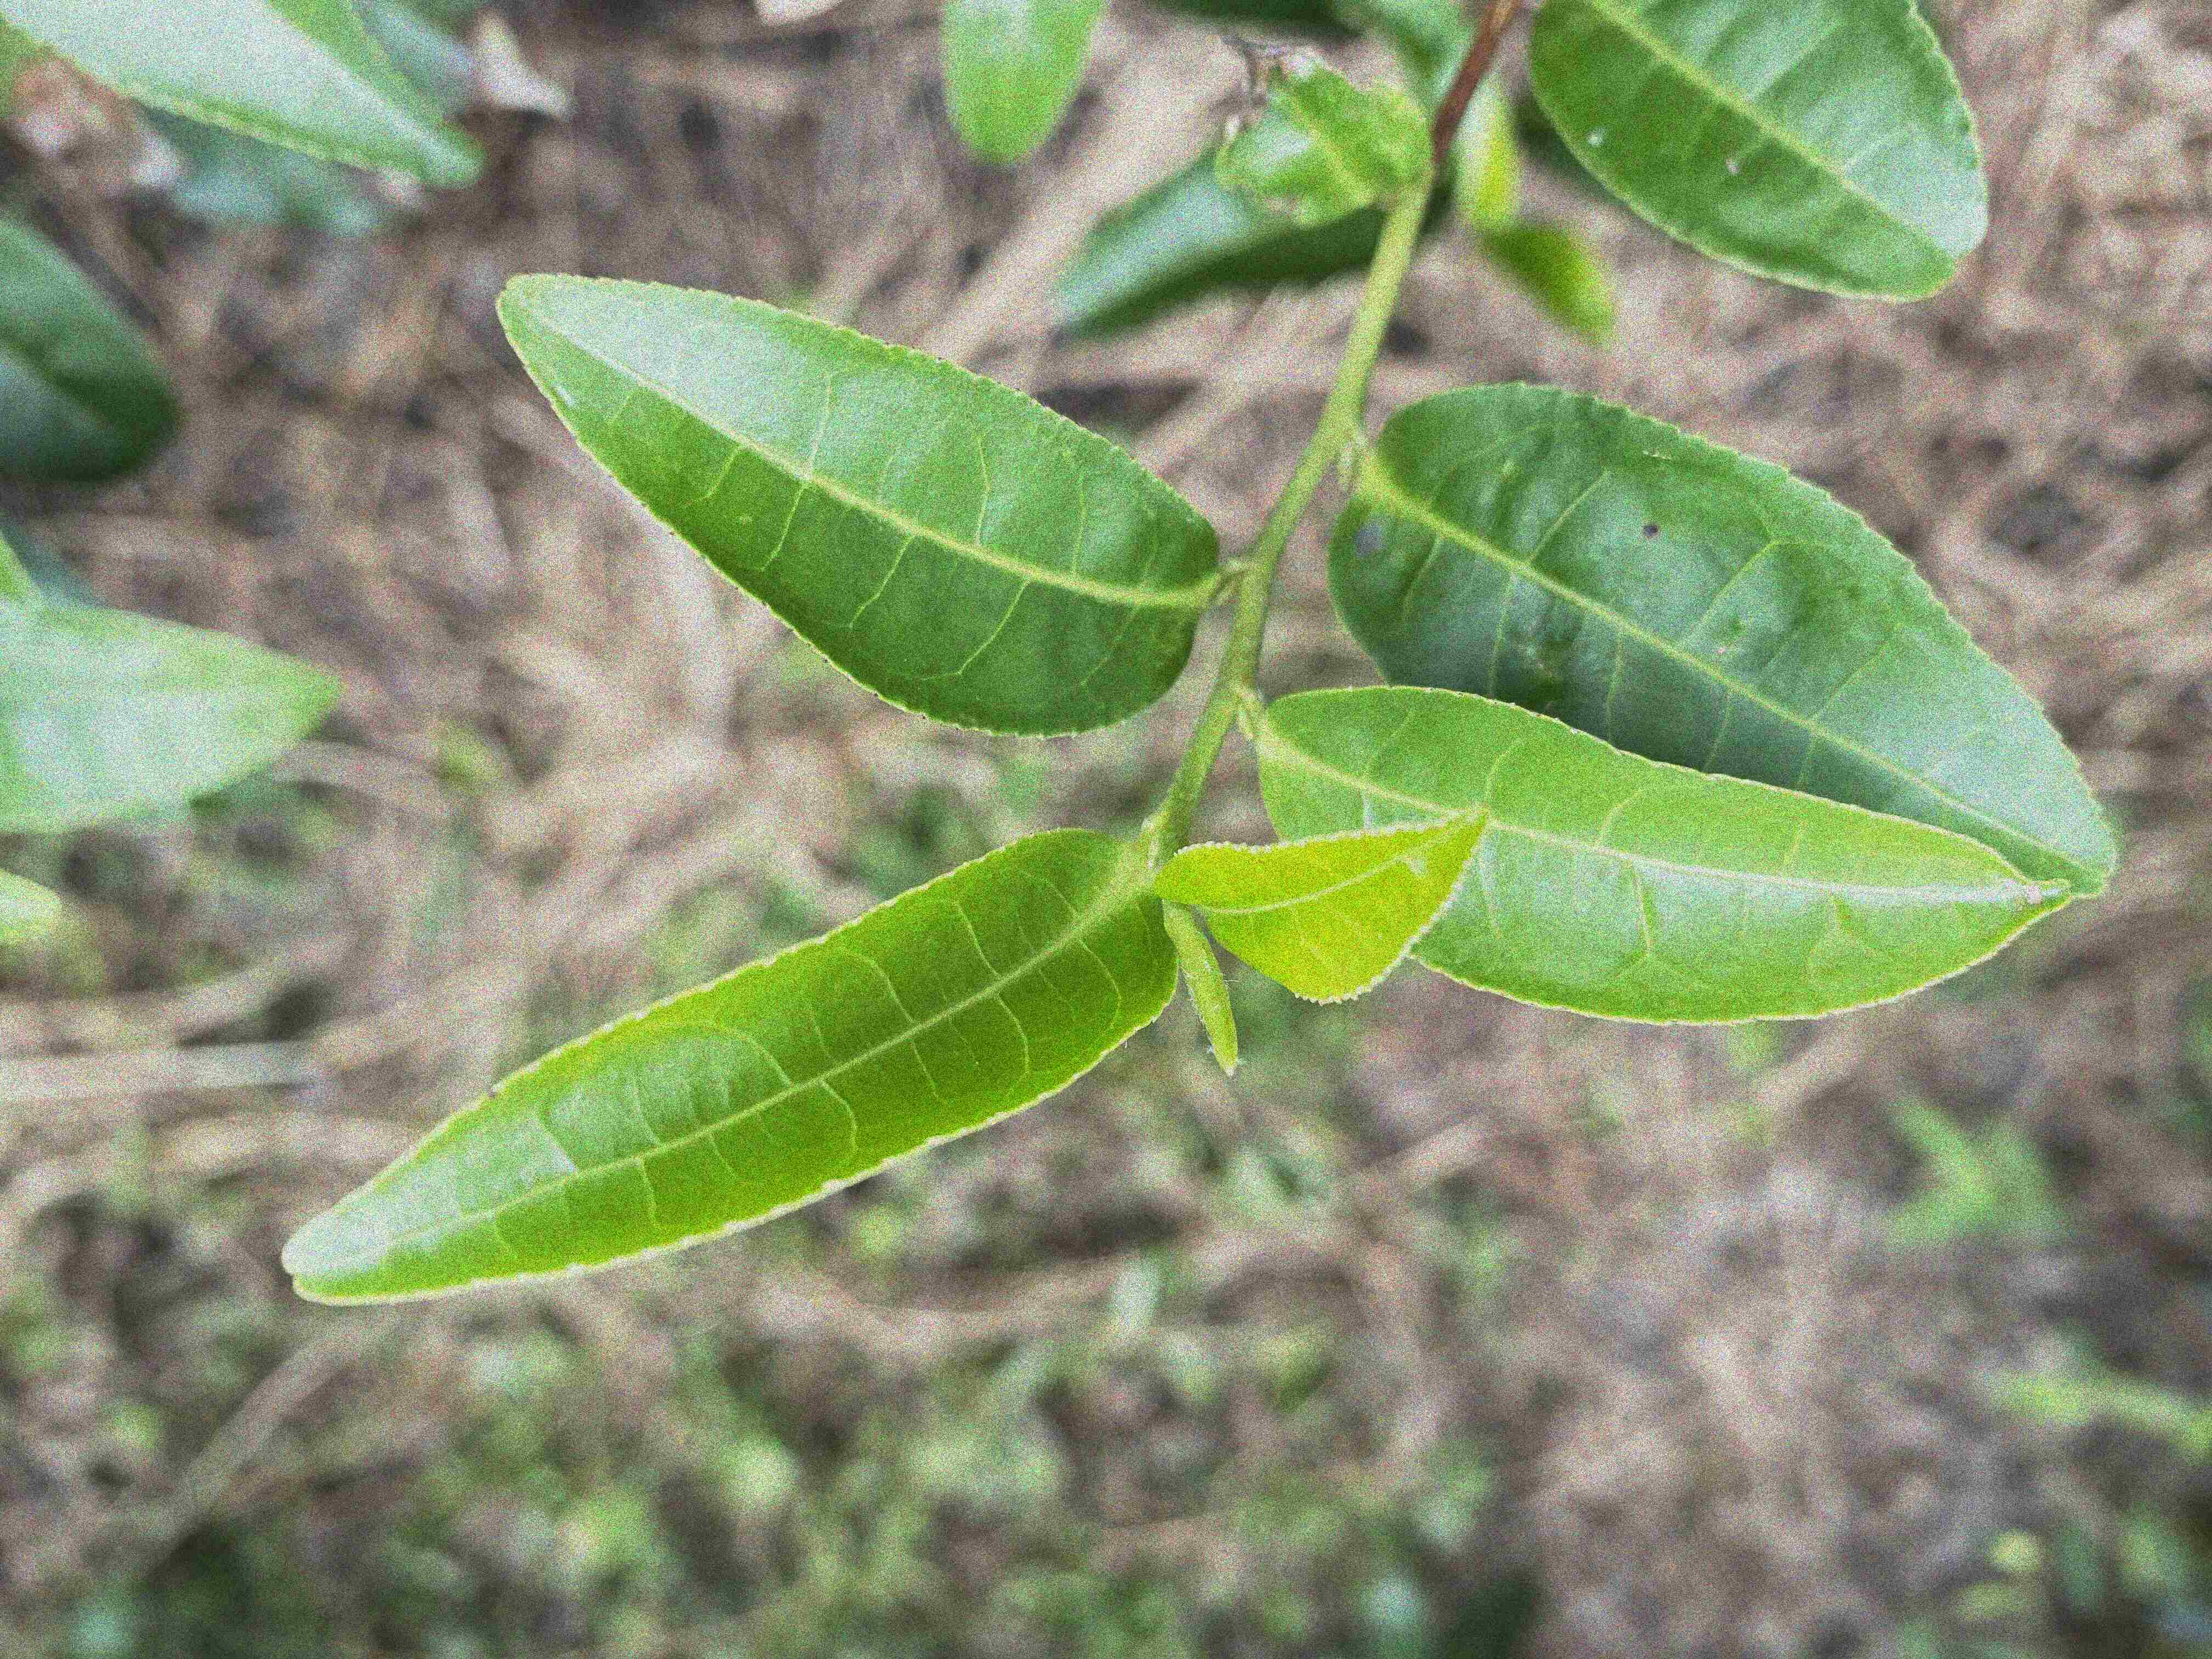healthy: (275, 824, 1177, 1309), (493, 272, 1221, 741), (1155, 802, 1489, 1006)
tanju_high: (1212, 31, 1432, 234)
tanju_low: (1259, 687, 2073, 1032)
